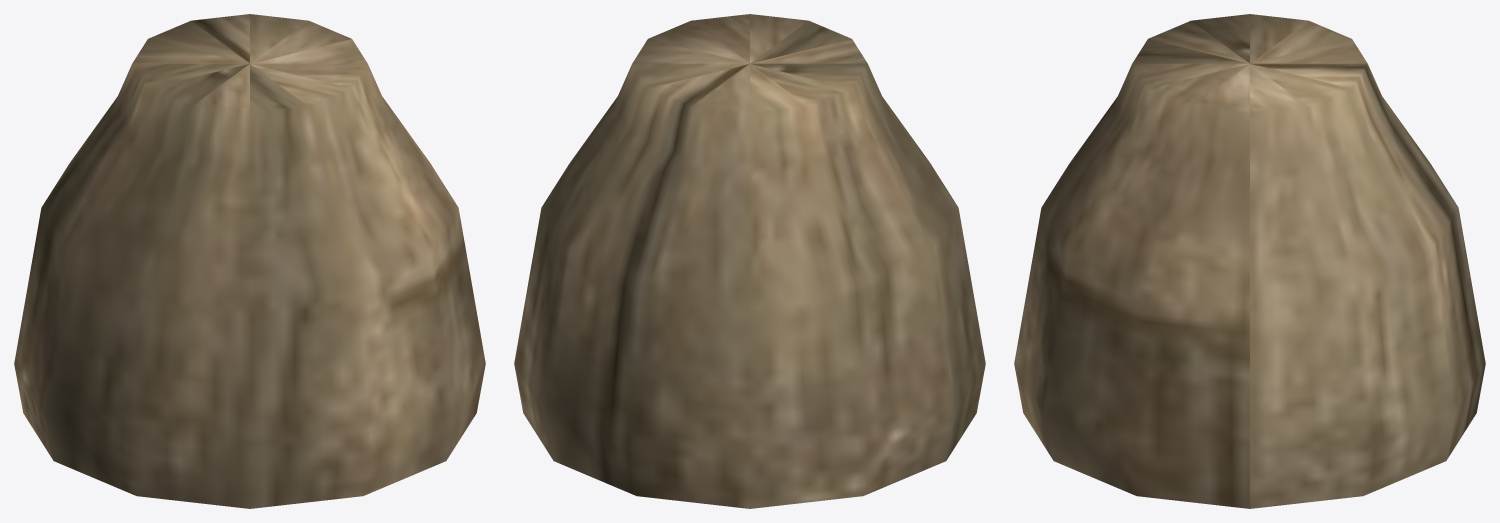
File: kit_lw_birch_cup_p.glb
3 renders of one model, left to right at view 1: azimuth 30°, elevation 25°; view 2: azimuth 150°, elevation 25°; view 3: azimuth 270°, elevation 25°, orthographic.
Visible parts, largest first — view 1: kit_lw_birch_cup_p; view 2: kit_lw_birch_cup_p; view 3: kit_lw_birch_cup_p.
Part boxes in pixels (left/top/right/bottom): kit_lw_birch_cup_p: left=14, top=14, right=485, bottom=508; kit_lw_birch_cup_p: left=514, top=14, right=985, bottom=508; kit_lw_birch_cup_p: left=1014, top=14, right=1485, bottom=508.
Bounding box in the file's own units: 0.104 × 0.085 × 0.104.
Materials: 1 (1 with a texture image).
